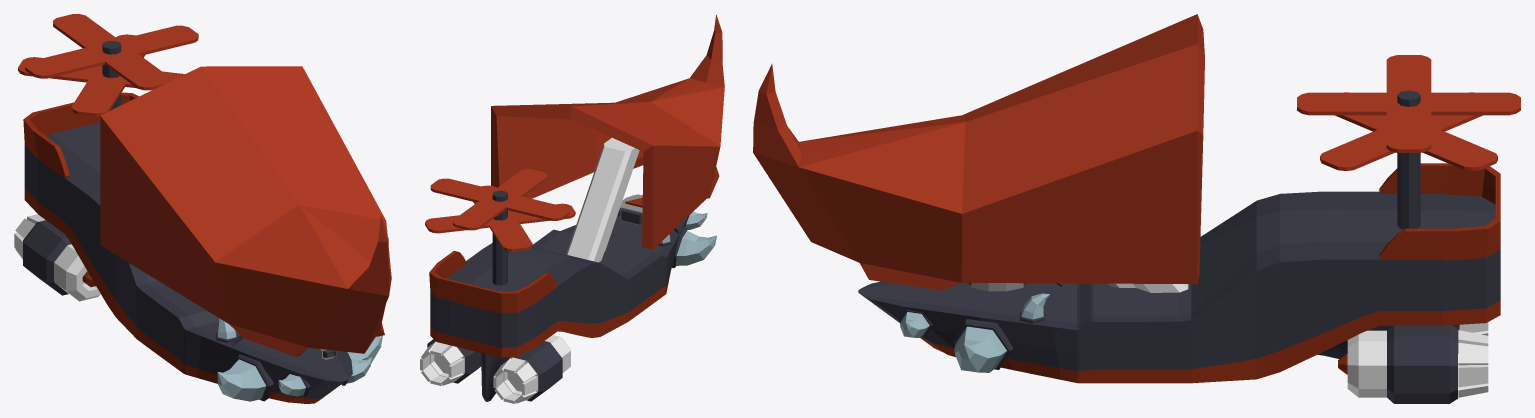
Rendered from EnemyShip_v01.fbx.
3 views of the same model, side by side, from view 1: azimuth 30°, elevation 25°; view 2: azimuth 150°, elevation 25°; view 3: azimuth 270°, elevation 25° (orthographic). The views are drawn at different scales.
Parts seen in each view (by area): view 1: Drag_Ship_v01, Drag_Prop_v01; view 2: Drag_Ship_v01, Drag_Prop_v01, Drag_Gun_v01; view 3: Drag_Ship_v01, Drag_Prop_v01.
Boxes of the visible parts, x1=… form: Drag_Ship_v01: x1=14, y1=41, x2=391, y2=403; Drag_Prop_v01: x1=18, y1=14, x2=198, y2=116; Drag_Ship_v01: x1=420, y1=15, x2=724, y2=403; Drag_Prop_v01: x1=425, y1=169, x2=575, y2=251; Drag_Gun_v01: x1=620, y1=194, x2=642, y2=225; Drag_Ship_v01: x1=753, y1=14, x2=1500, y2=403; Drag_Prop_v01: x1=1297, y1=55, x2=1520, y2=170.
Size of the model in its own units: 3.01 by 4.15 by 8.36.
